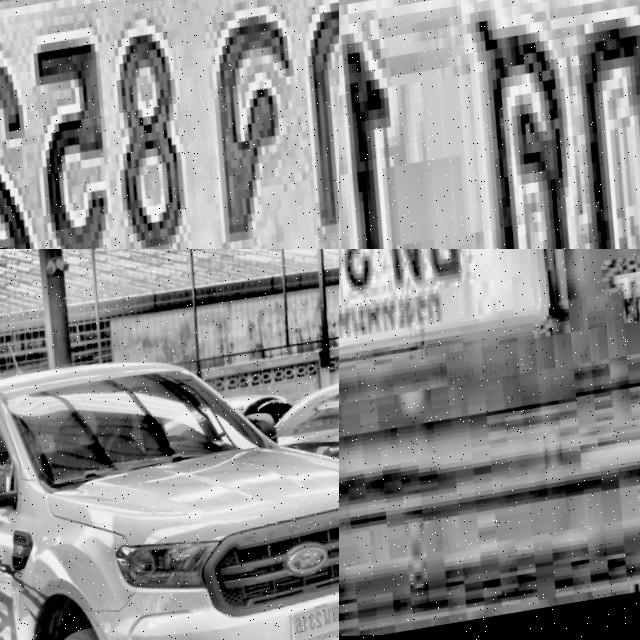license-plate: (0, 0, 339, 249), (339, 0, 640, 249), (339, 249, 600, 447), (289, 597, 339, 640)
